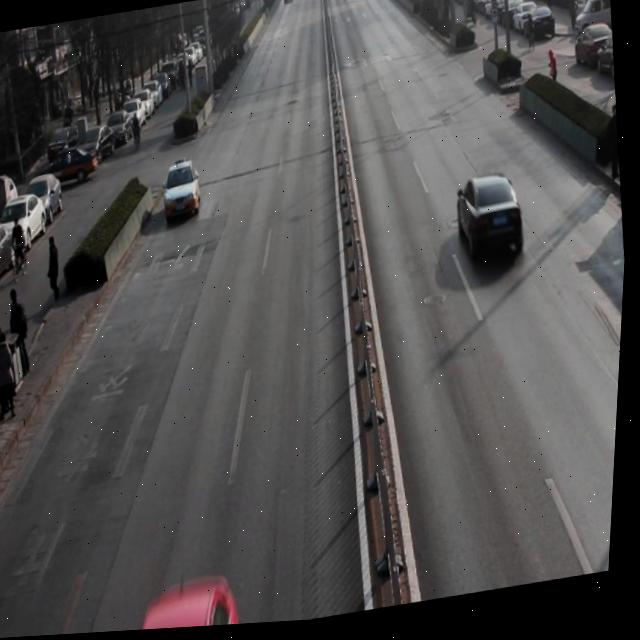car: (452, 175, 533, 272), (162, 157, 206, 225)
